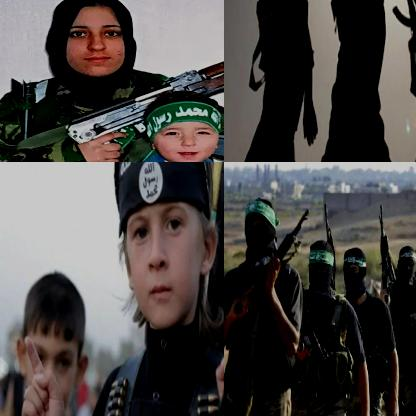rifle: (45, 12, 223, 161), (235, 208, 313, 312), (374, 204, 392, 293), (393, 0, 415, 53), (247, 0, 275, 34)
